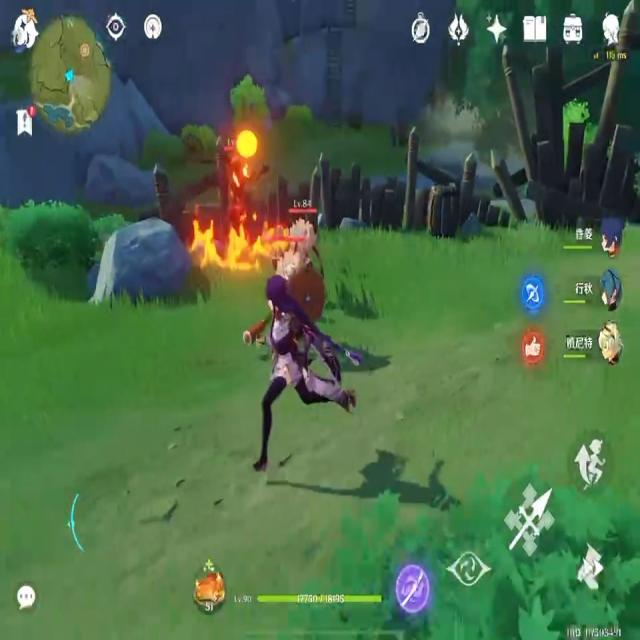genshin-hilichurls: (268, 226, 320, 290)
